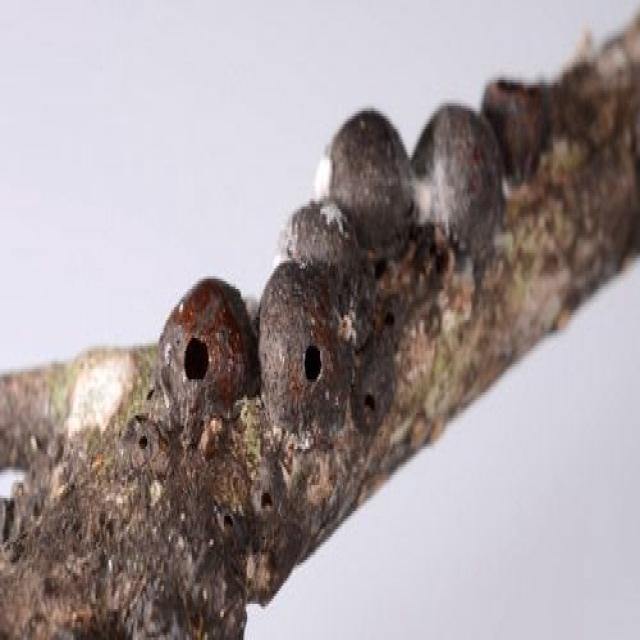Black Scale: (156, 72, 553, 454)
